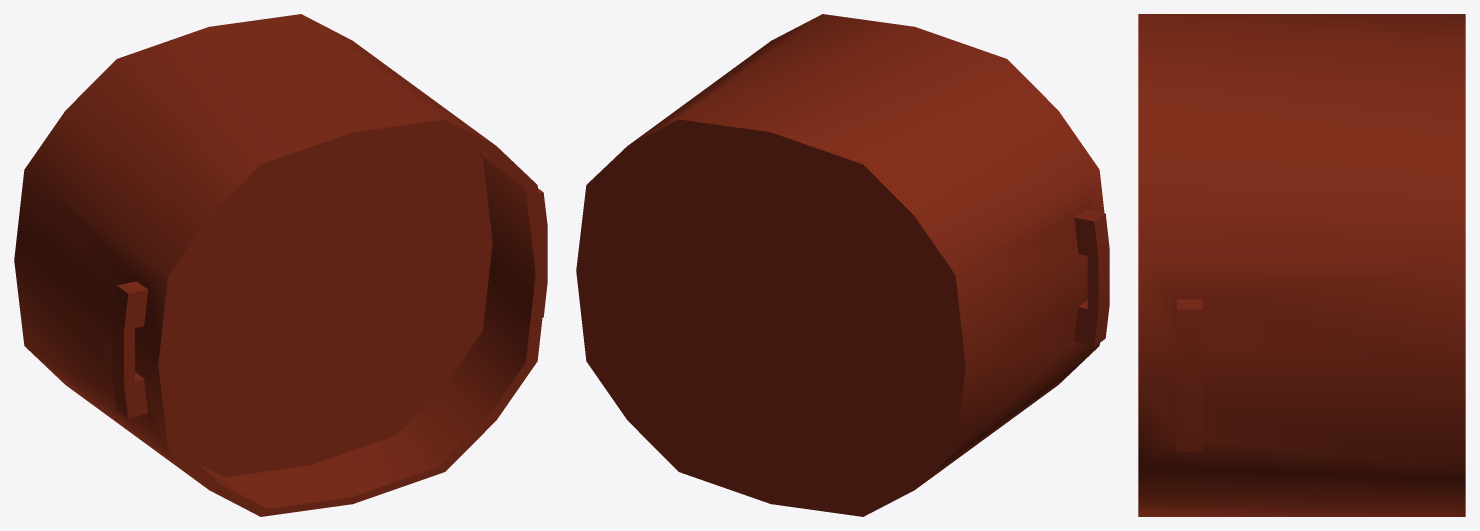
File: Pot.obj
3 renders of one model, left to right at view 1: azimuth 30°, elevation 25°; view 2: azimuth 150°, elevation 25°; view 3: azimuth 270°, elevation 25°, orthographic. The views are drawn at different scales.
Size of the model in its own units: 0.2388 by 0.2003 by 0.1406.
